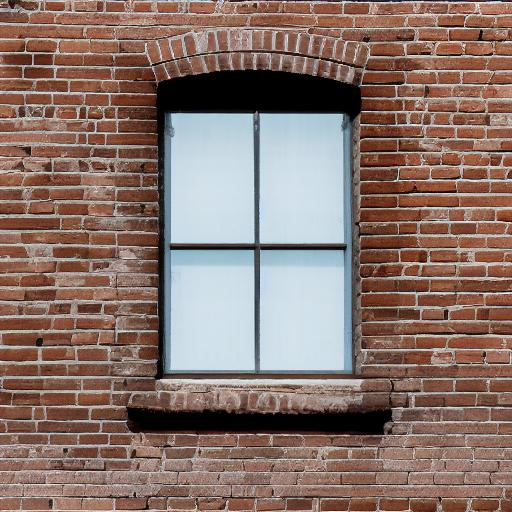Window: (128, 29, 395, 418)
